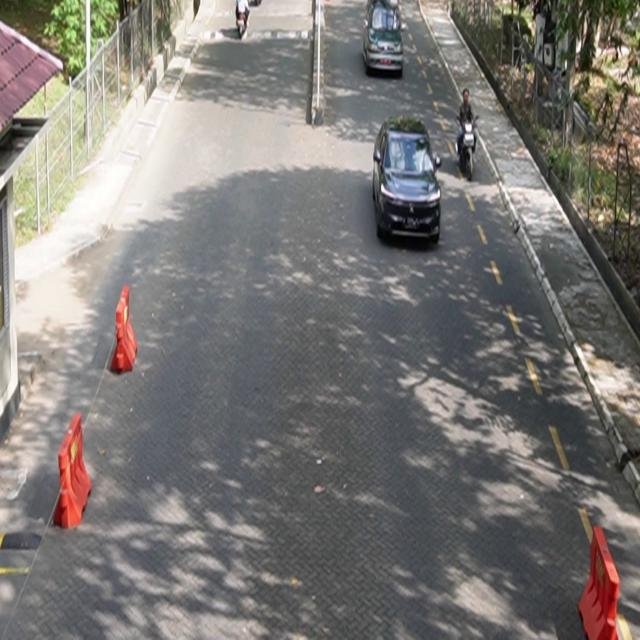car: (373, 116, 443, 244), (362, 1, 404, 77)
